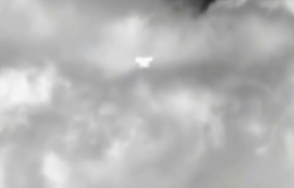Target: (137, 58, 152, 67)
